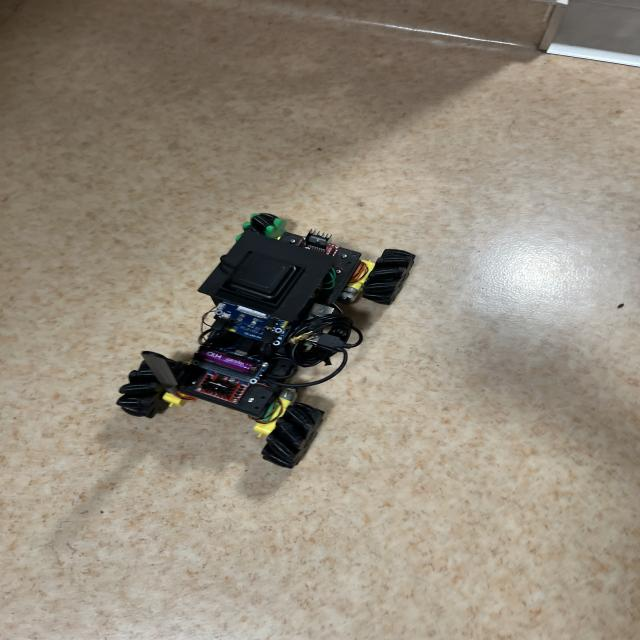robot: (117, 213, 415, 468)
